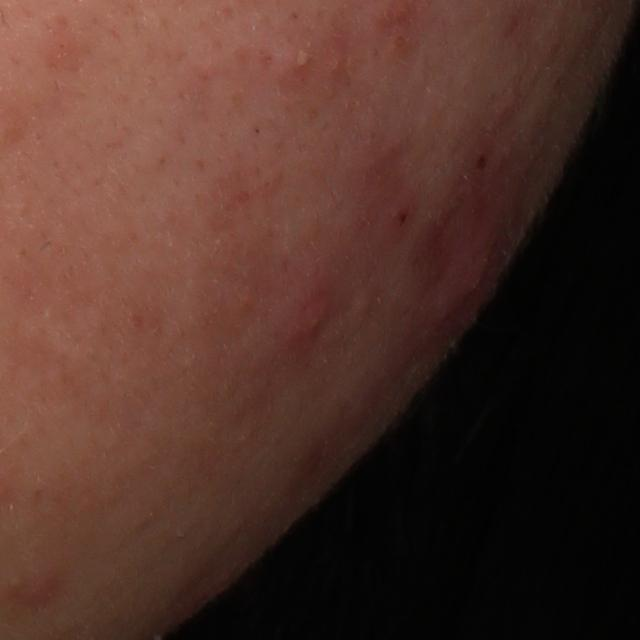papule: (282, 295, 337, 362), (8, 568, 61, 599)
pustule: (284, 39, 317, 73)
